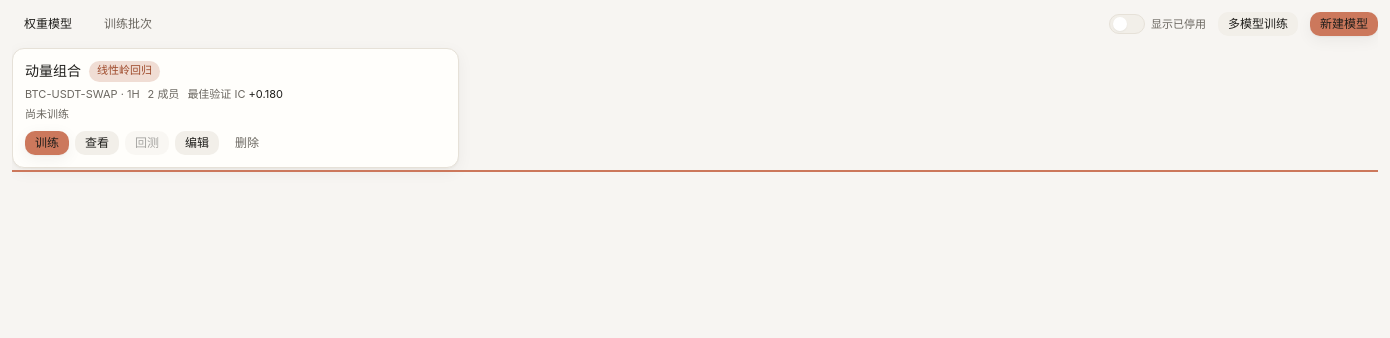
Test: WeightModelPanel — 路由与交接消费 › list 训练 button enters live view and starts training with the model spec
Expected: the text "动量组合" is shown, [25, 61, 81, 81]
Click the button "训练" at point(47, 142), box [25, 130, 69, 154]
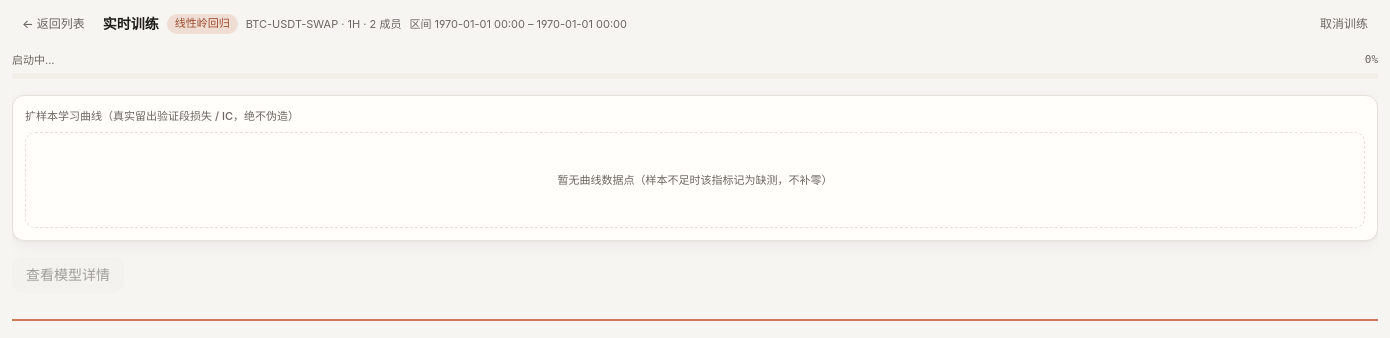
Expected: the text "实时训练" is shown, [103, 14, 159, 34]
